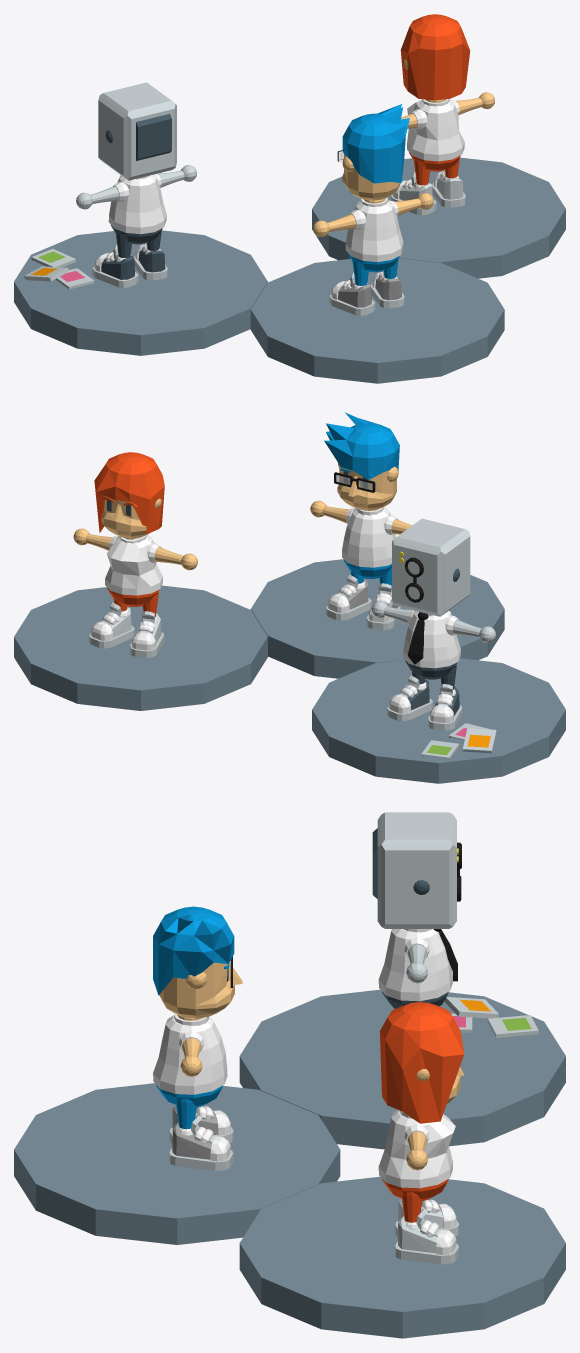
The model's file is Lowpoly Characters.glb.
The picture shows the model from 3 angles, top to bottom: view 1: azimuth 30°, elevation 25°; view 2: azimuth 150°, elevation 25°; view 3: azimuth 270°, elevation 25°; orthographic projection. The views are drawn at different scales.
Visible parts, largest first — view 1: group1456704631, group70097018, group381046066, group864950035, group1757628131, group706049793, group2138674197, group1524745835, group1577718652, group1800149201, group1754668845, group1445218079 (+13 smaller); view 2: group381046066, group70097018, group1456704631, group864950035, group1757628131, group706049793, group2138674197, group1524745835, group1577718652, group873016589, group1679579806, group976850016 (+15 smaller); view 3: group381046066, group1456704631, group70097018, group864950035, group1757628131, group706049793, group1524745835, group2138674197, group1577718652, group873016589, group976850016, group577485007 (+7 smaller).
Boxes of the visible parts, x1,y1,x2,y2 form: group1456704631: [250, 258, 504, 383]; group70097018: [14, 230, 267, 355]; group381046066: [312, 157, 565, 278]; group864950035: [98, 82, 176, 180]; group1757628131: [400, 14, 470, 100]; group706049793: [342, 104, 409, 183]; group2138674197: [407, 99, 464, 171]; group1524745835: [345, 197, 403, 272]; group1577718652: [108, 174, 166, 244]; group1800149201: [136, 114, 171, 160]; group1754668845: [329, 272, 375, 315]; group1445218079: [92, 245, 138, 288]; group381046066: [14, 585, 267, 710]; group70097018: [312, 658, 565, 783]; group1456704631: [250, 559, 504, 678]; group864950035: [392, 518, 470, 616]; group1757628131: [94, 452, 164, 533]; group706049793: [324, 412, 399, 479]; group2138674197: [105, 535, 162, 606]; group1524745835: [342, 507, 395, 578]; group1577718652: [403, 611, 460, 679]; group873016589: [337, 463, 398, 510]; group1679579806: [387, 675, 433, 721]; group976850016: [326, 574, 371, 620]; group381046066: [239, 1176, 565, 1338]; group1456704631: [14, 1083, 340, 1244]; group70097018: [239, 989, 565, 1149]; group864950035: [377, 812, 456, 928]; group1757628131: [379, 1002, 463, 1123]; group706049793: [153, 906, 234, 995]; group1524745835: [153, 1013, 227, 1107]; group2138674197: [378, 1110, 455, 1200]; group1577718652: [378, 929, 452, 1008]; group873016589: [159, 962, 242, 1020]; group976850016: [169, 1115, 233, 1170]; group577485007: [395, 1208, 458, 1264].
Bounding box in the file's own units: 3.51 × 1.38 × 2.52.
